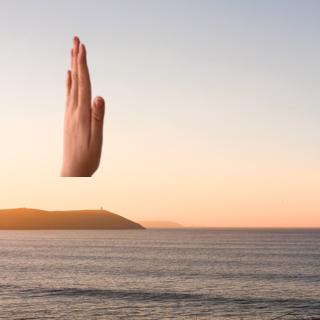Right: (58, 26, 106, 173)
